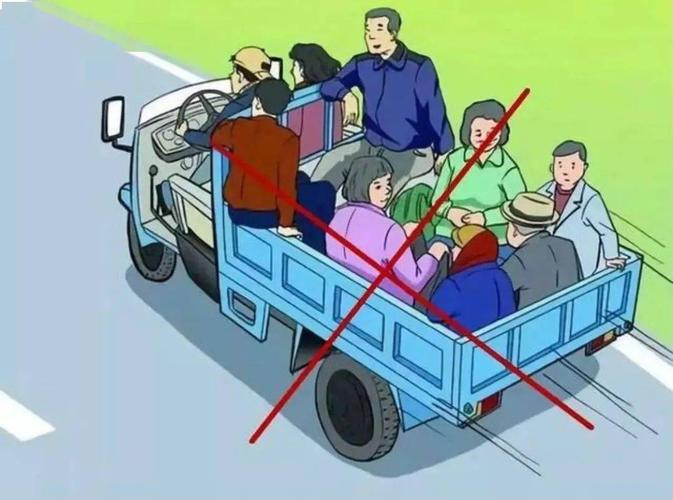driver: (213, 47, 267, 100)
overloading: (104, 1, 650, 459)
passenger: (351, 9, 449, 173), (227, 82, 316, 237), (426, 210, 524, 338), (545, 125, 615, 282), (330, 161, 418, 283), (509, 189, 582, 305), (462, 104, 521, 225), (282, 35, 340, 98)
